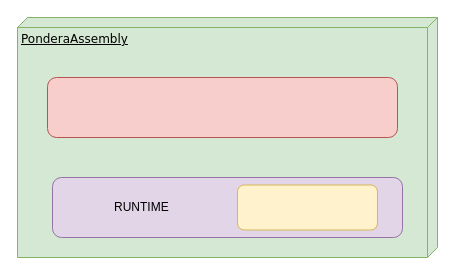
The diagram is 455 pixels wide and 275 high, and some of its shapes have lost their labels. Each missing label, with the centre of its shape:
EVENTS: point (307, 207)
PLUGIN DEFINITION: point (222, 107)
